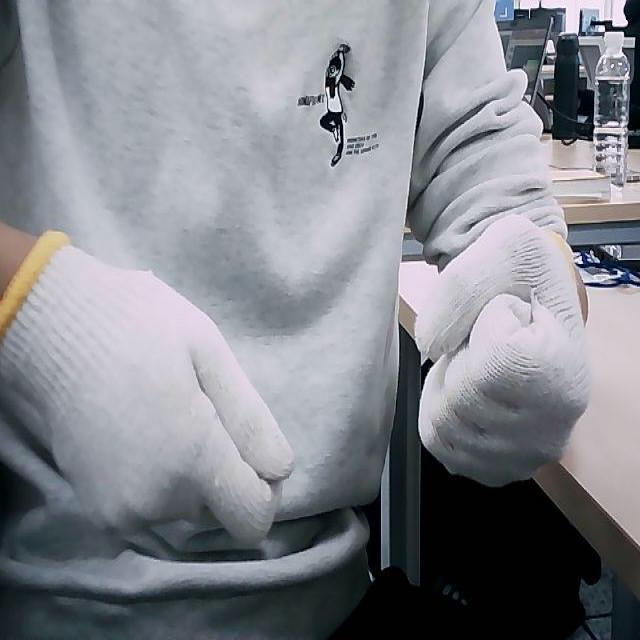gloves: (0, 229, 294, 547), (411, 215, 593, 482)
